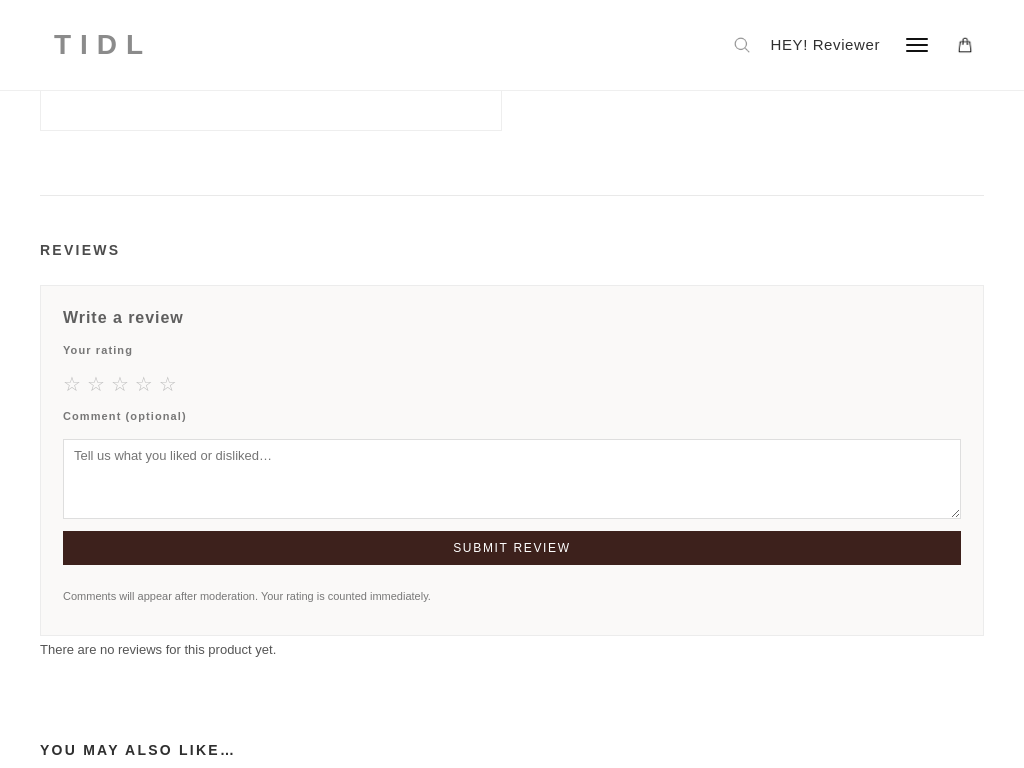
ProductDetail - review submission › sends rating+comment and refreshes reviews
(page scrolled)
Note: select 4 stars (aria-label from component: "4 stars")
Click the button named "4 stars" at (144, 384), box [135,372,153,396]
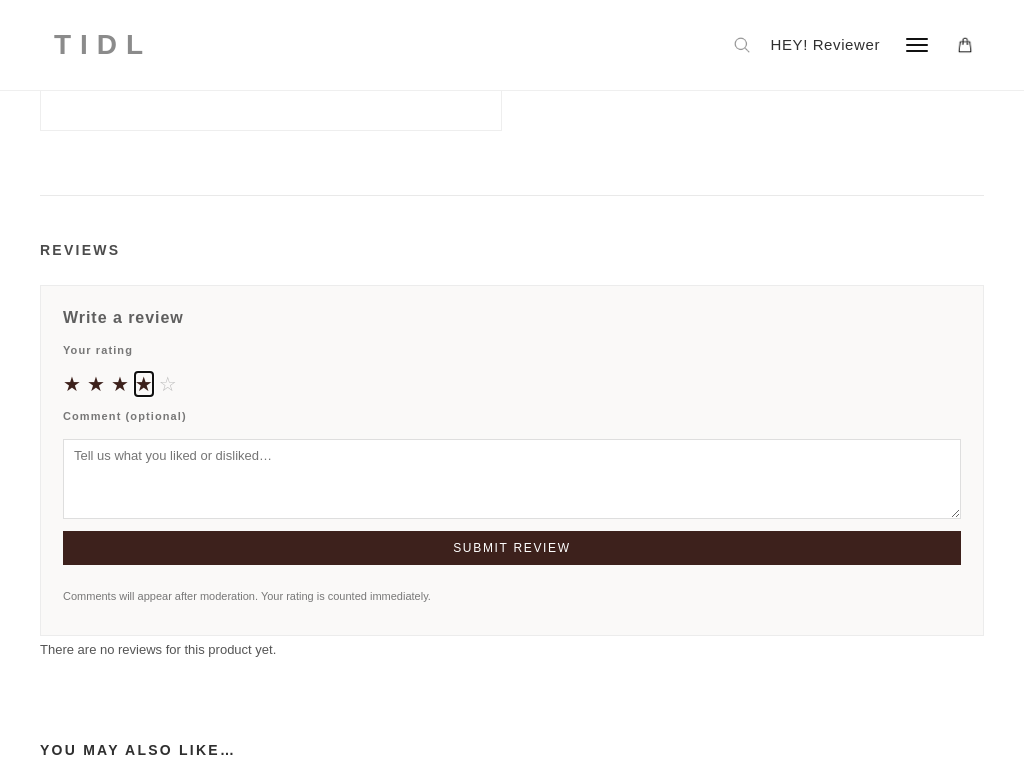
Note: textarea: just grab the only textbox
Type "Really nice product" into the text box at (512, 479), box [63,439,961,519]
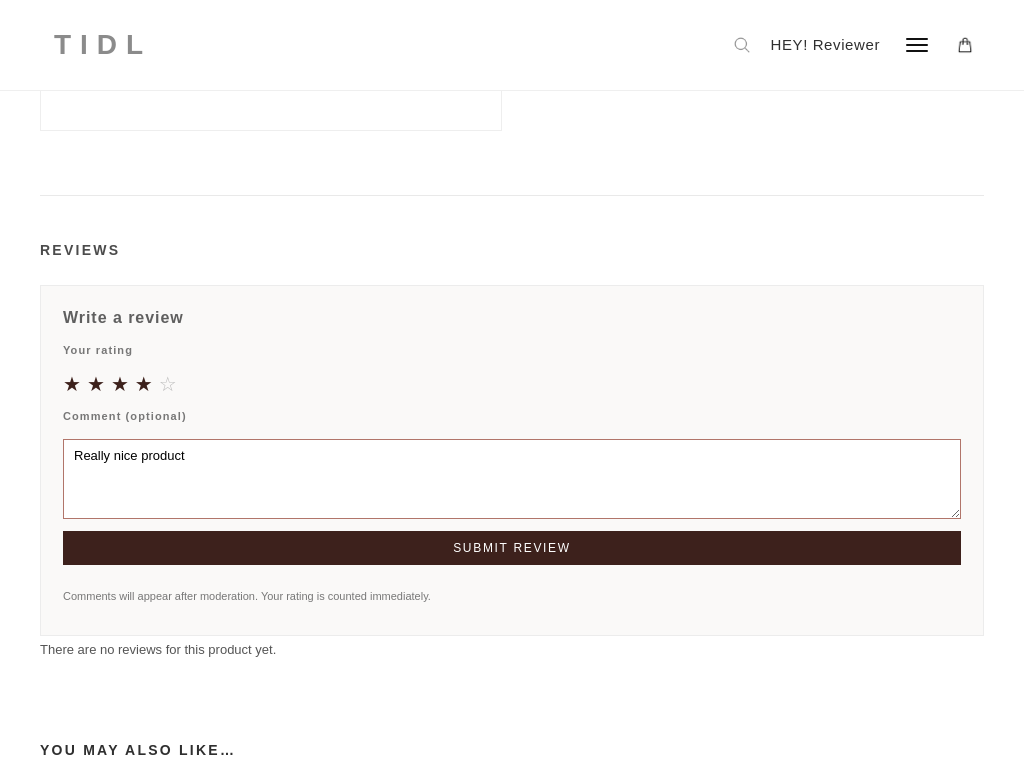
Click the button "Submit review" at (512, 548), box [63,531,961,565]
(page scrolled)
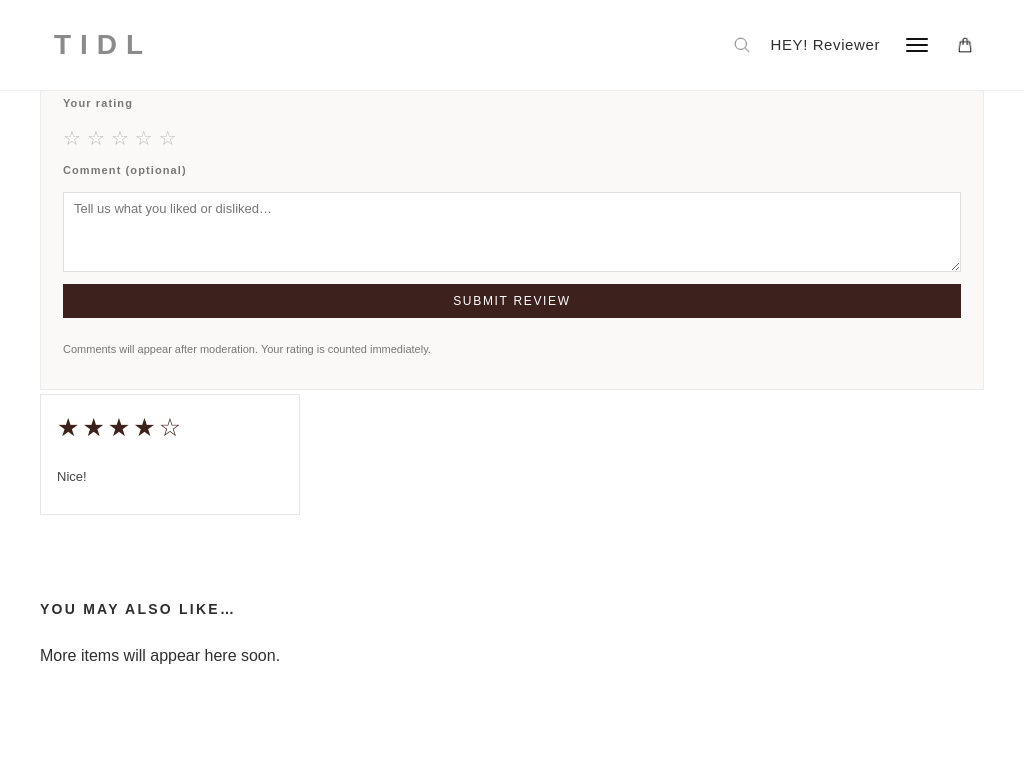
Check: the text "Nice!" is shown, box [57,469,87,484]
